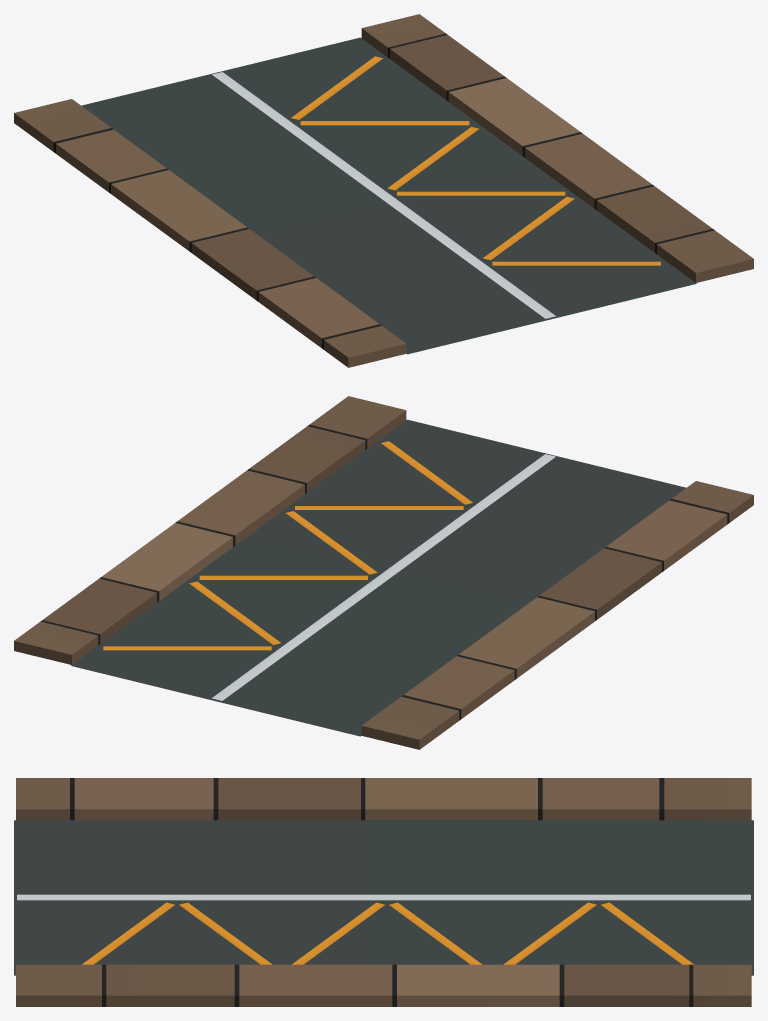
The model's file is Road_1_116.fbx.
3 views of the same model, one above another, from view 1: azimuth 30°, elevation 25°; view 2: azimuth 150°, elevation 25°; view 3: azimuth 270°, elevation 25° (orthographic). The views are drawn at different scales.
Parts seen in each view (by area): view 1: Road_1_116; view 2: Road_1_116; view 3: Road_1_116.
Boxes of the visible parts, x1,y1,x2,y2 form: Road_1_116: (14, 14, 753, 367); Road_1_116: (14, 396, 753, 749); Road_1_116: (14, 778, 753, 1006).
Size of the model in its own units: 1260 by 30 by 1811.
